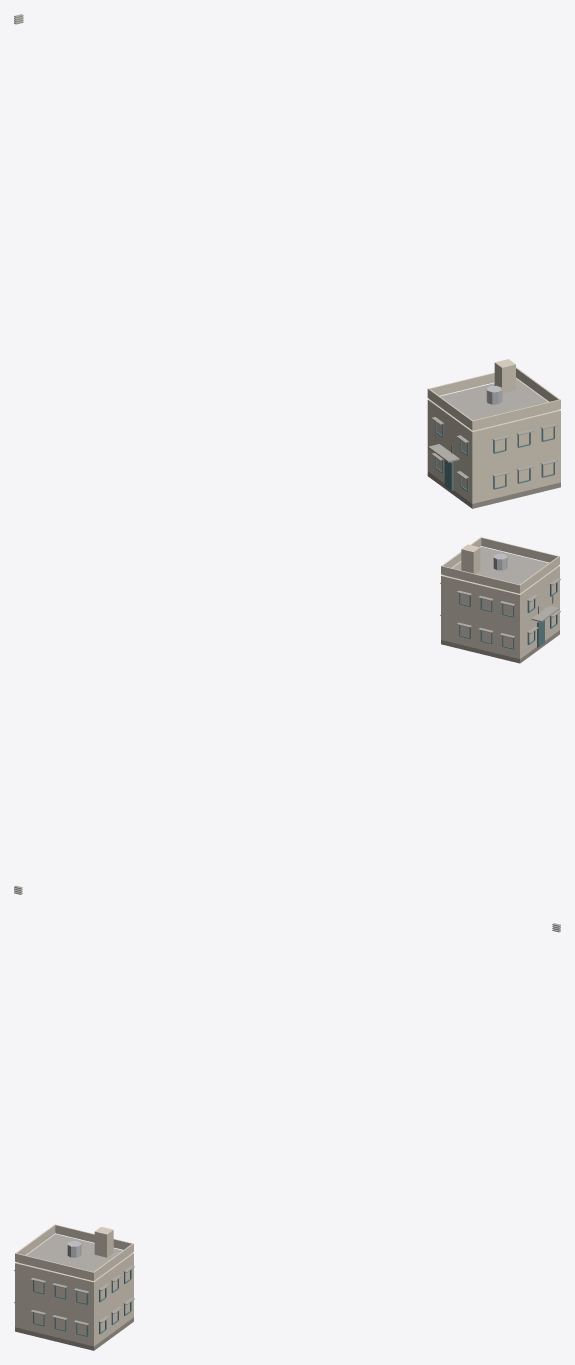
The model's file is house2.glb.
The picture shows the model from 3 angles, top to bottom: view 1: azimuth 30°, elevation 25°; view 2: azimuth 150°, elevation 25°; view 3: azimuth 330°, elevation 25°; orthographic projection. The views are drawn at different scales.
Parts seen in each view (by area): view 1: lib_house2; view 2: lib_house2; view 3: lib_house2.
Part boxes in pixels (x1=…): lib_house2: x1=14, y1=14, x2=560, y2=508; lib_house2: x1=14, y1=537, x2=560, y2=894; lib_house2: x1=14, y1=923, x2=560, y2=1350.
Size of the model in its own units: 9.31 by 8.91 by 82.24.
